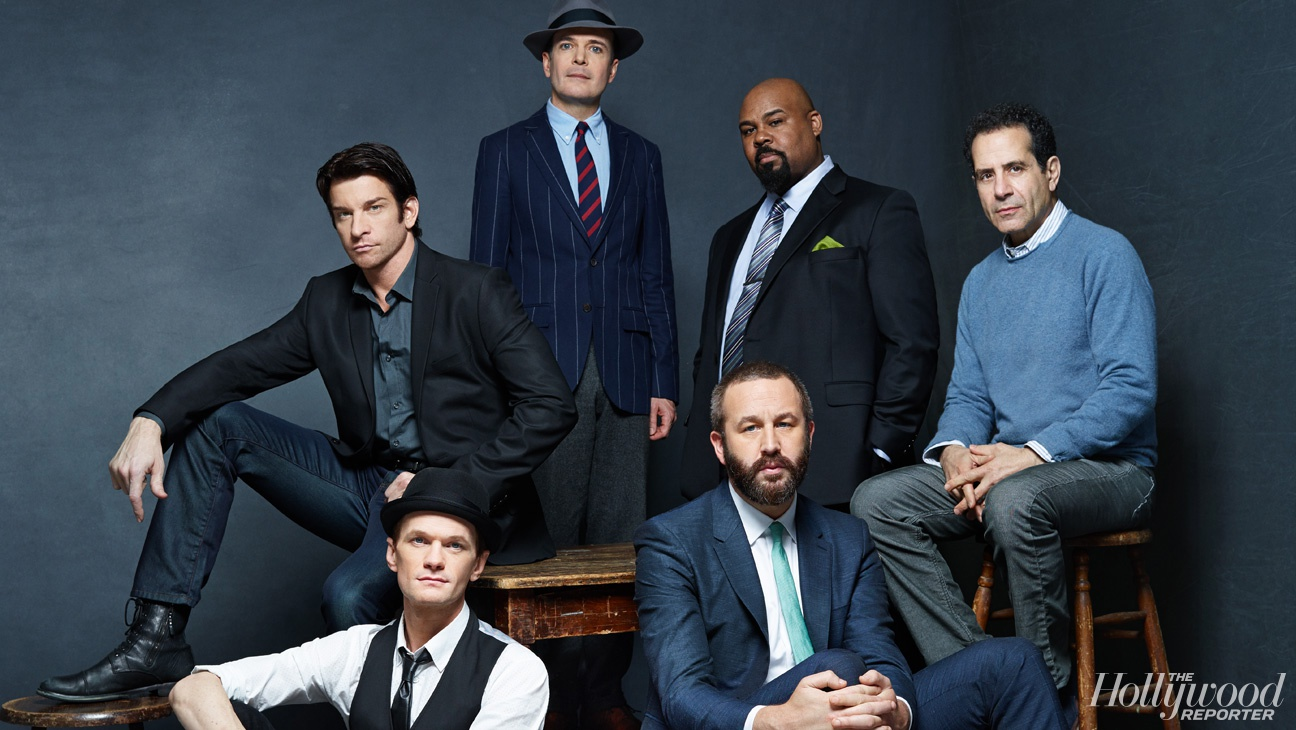bad: (723, 405, 812, 494), (726, 96, 801, 171), (967, 146, 1042, 221), (320, 188, 395, 262), (395, 528, 469, 602), (550, 32, 612, 94)
